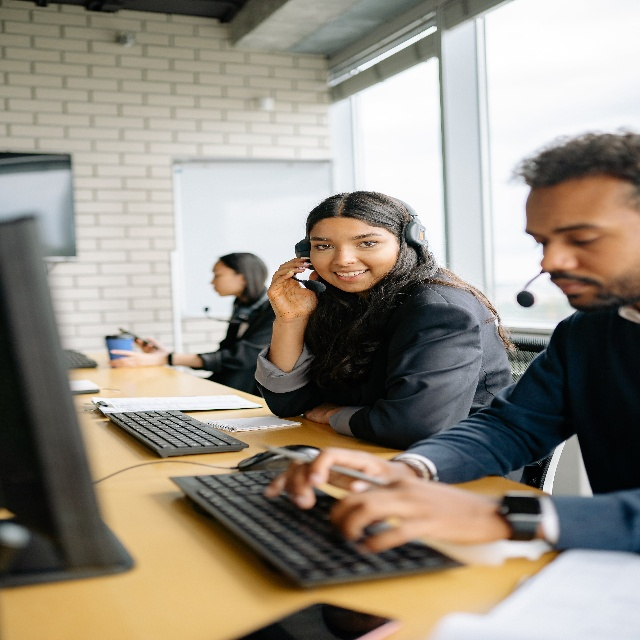Sin_guantes: (327, 471, 489, 550), (268, 436, 404, 497), (267, 257, 319, 316), (109, 347, 170, 369)
